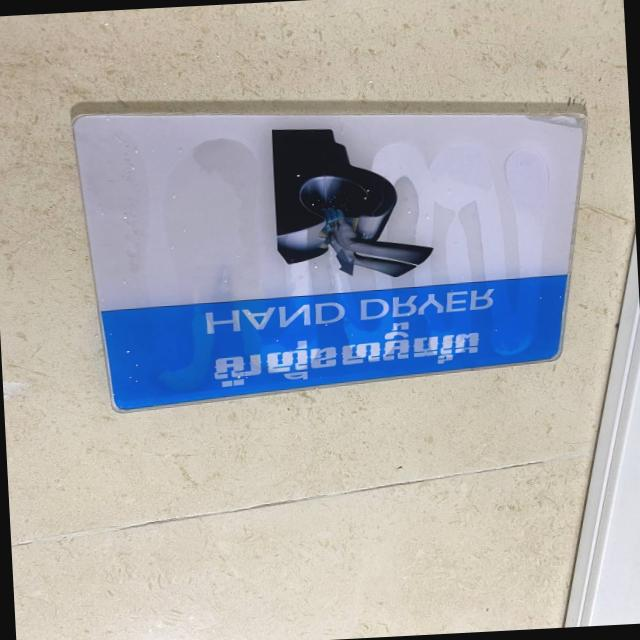Yolov11_80vkh: (204, 307, 502, 402)
